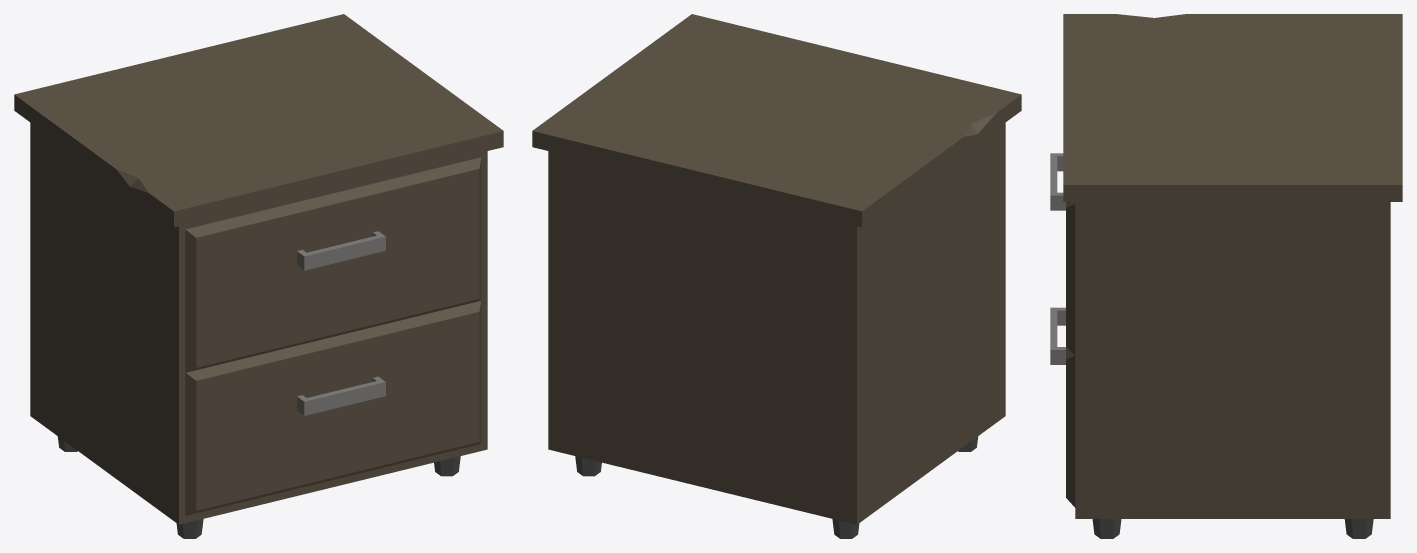
File: SM_Props_Interior_House_Room_SideTable_02.fbx
3 views of the same model, side by side, from view 1: azimuth 30°, elevation 25°; view 2: azimuth 150°, elevation 25°; view 3: azimuth 270°, elevation 25° (orthographic). The views are drawn at different scales.
Parts seen in each view (by area): view 1: SM_Props_Interior_House_Room_SideTable_02; view 2: SM_Props_Interior_House_Room_SideTable_02; view 3: SM_Props_Interior_House_Room_SideTable_02.
Part boxes in pixels (x1,y1,x2,y2): SM_Props_Interior_House_Room_SideTable_02: (14, 14, 503, 538); SM_Props_Interior_House_Room_SideTable_02: (532, 14, 1021, 538); SM_Props_Interior_House_Room_SideTable_02: (1050, 14, 1402, 538).
Bounding box in the file's own units: 64.12 × 64.47 × 55.91.
